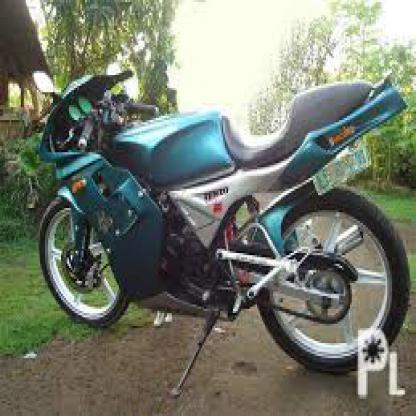Motorcycle: (20, 49, 415, 373)
